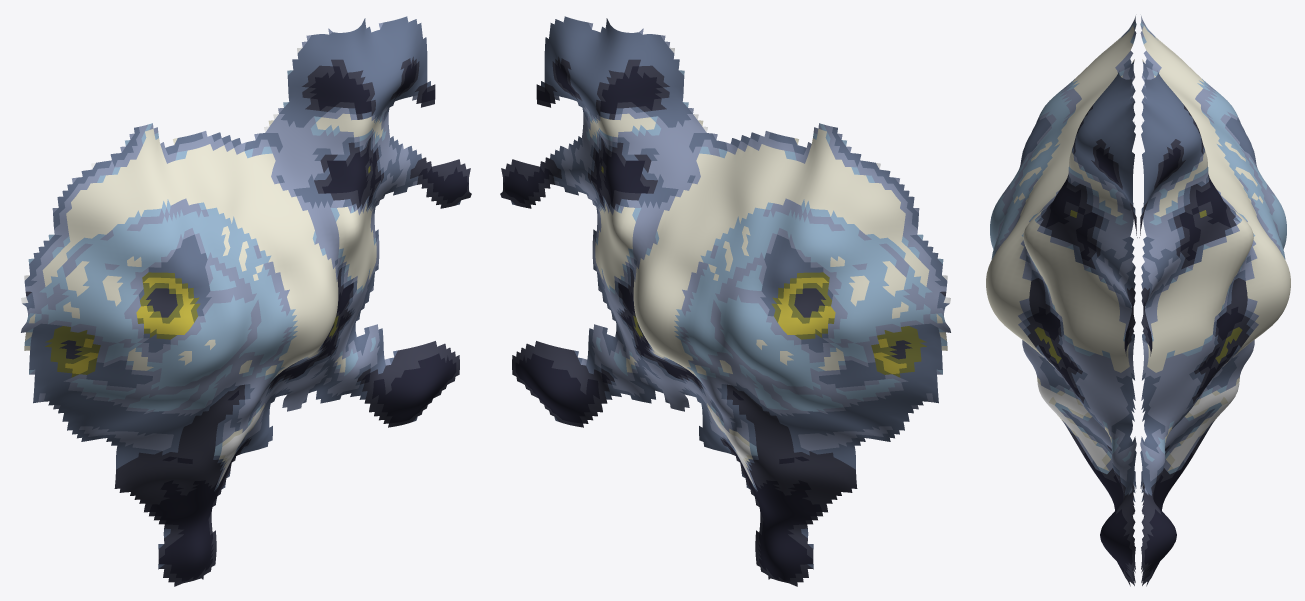
File: liondance.glb
3 views of the same model, side by side, from view 1: azimuth 30°, elevation 25°; view 2: azimuth 150°, elevation 25°; view 3: azimuth 270°, elevation 25° (orthographic). The views are drawn at different scales.
Parts seen in each view (by area): view 1: liondance; view 2: liondance; view 3: liondance.
Boxes of the visible parts, x1=… form: liondance: x1=21, y1=16, x2=471, y2=586; liondance: x1=500, y1=16, x2=950, y2=586; liondance: x1=986, y1=16, x2=1290, y2=586.
Size of the model in its own units: 763 by 846 by 391.
